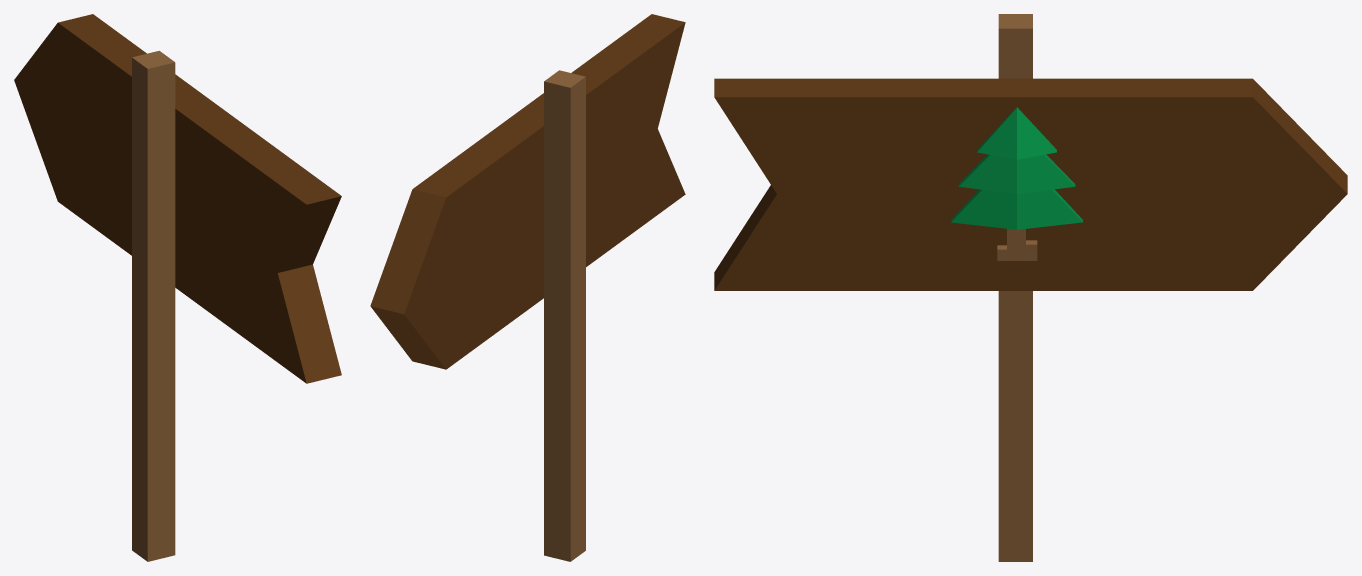
The model's file is PanneauArbre_PH.fbx.
3 views of the same model, side by side, from view 1: azimuth 30°, elevation 25°; view 2: azimuth 150°, elevation 25°; view 3: azimuth 270°, elevation 25° (orthographic). The views are drawn at different scales.
Visible parts, largest first — view 1: PanneauArbre; view 2: PanneauArbre; view 3: PanneauArbre.
Part boxes in pixels (x1=…): PanneauArbre: x1=14, y1=14, x2=341, y2=561; PanneauArbre: x1=370, y1=14, x2=685, y2=561; PanneauArbre: x1=714, y1=14, x2=1347, y2=561.
Bounding box in the file's own units: 32.26 × 186 × 200.
